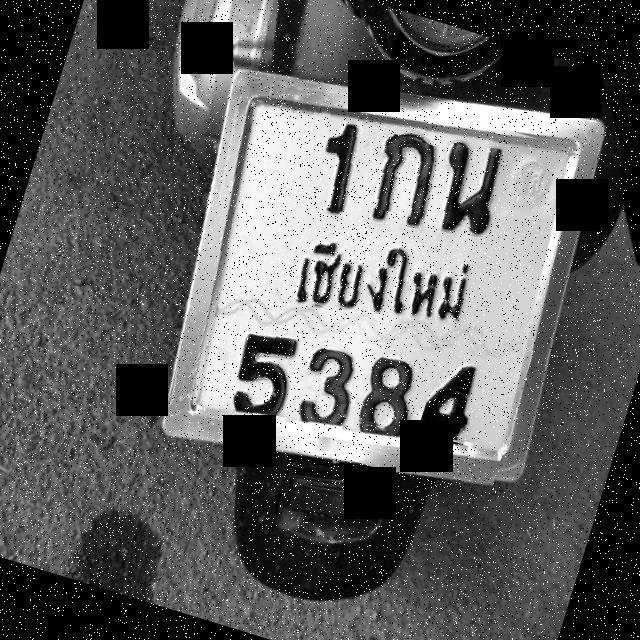letters: (216, 322, 310, 432), (417, 347, 500, 448), (294, 109, 370, 212), (362, 130, 445, 222), (286, 344, 362, 437), (429, 142, 504, 230), (354, 354, 424, 434)
license-plate: (192, 105, 575, 458)
province: (278, 215, 501, 354)
